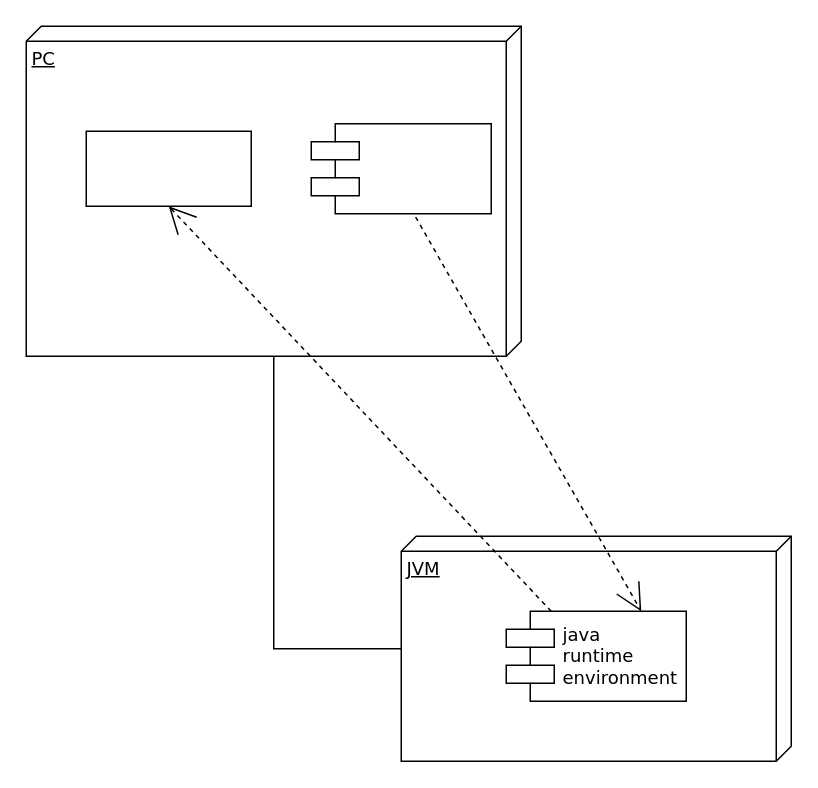
This 818x788 diagram has some shape labels left out. The centre of each missing label's shape, as x and y in pixels:
"Pickman.jar" goes at [400,168].
"«interface» Pickman GUI" goes at [168,168].
